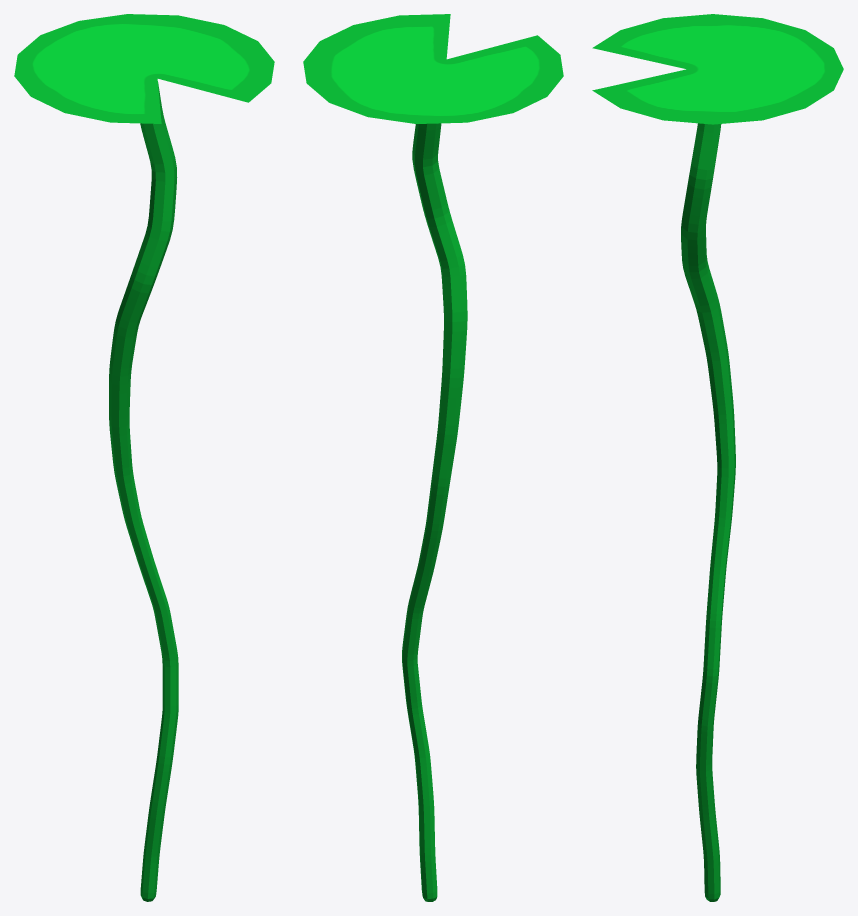
The model's file is water_lily.glb.
3 renders of one model, left to right at view 1: azimuth 30°, elevation 25°; view 2: azimuth 150°, elevation 25°; view 3: azimuth 270°, elevation 25°, orthographic.
Visible parts, largest first — view 1: Circle.004, Cube.020; view 2: Circle.004, Cube.020; view 3: Circle.004, Cube.020.
Part boxes in pixels (box(x1,y1,x2,y2)): Circle.004: box(14, 14, 274, 123); Cube.020: box(109, 82, 178, 901); Circle.004: box(303, 14, 563, 123); Cube.020: box(402, 123, 467, 901); Circle.004: box(592, 14, 843, 124); Cube.020: box(681, 123, 735, 901).
Size of the model in its own units: 2 by 7 by 1.92.
2 materials, 1 textured.
